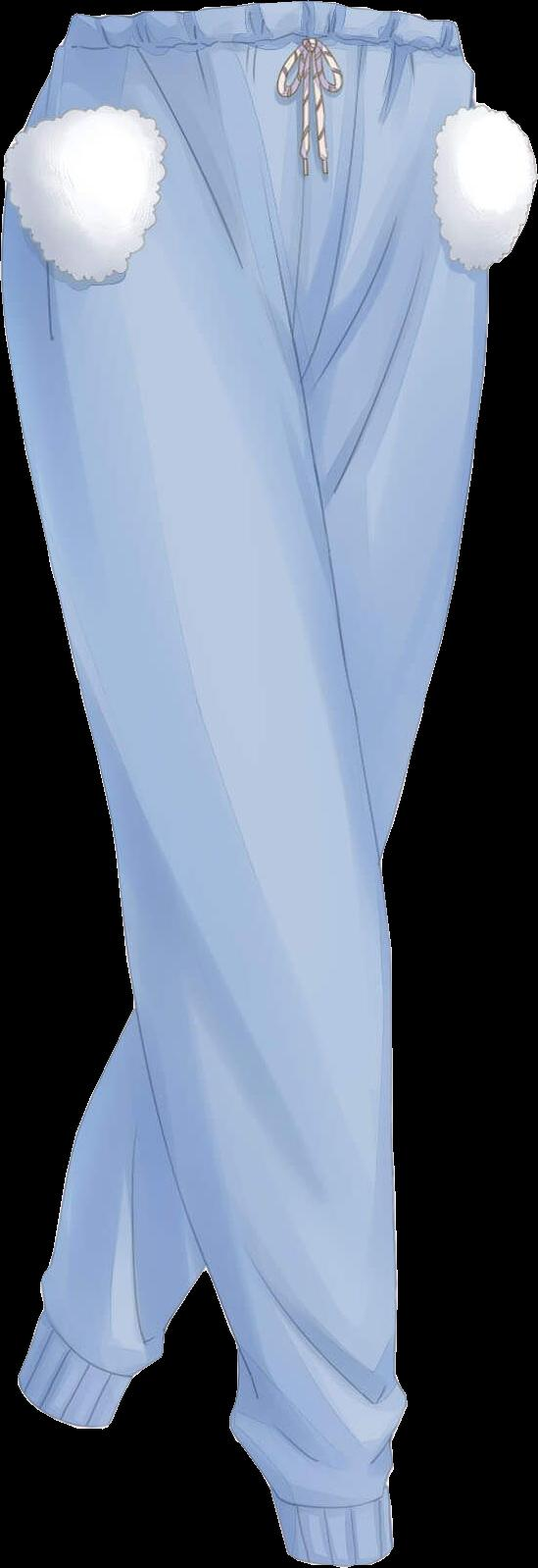Hemline: (13, 1377, 110, 1440), (286, 1543, 397, 1567)
Pantleg: (18, 6, 536, 1422), (1, 4, 406, 1563)
Waistline: (59, 26, 473, 70), (69, 0, 467, 38)
